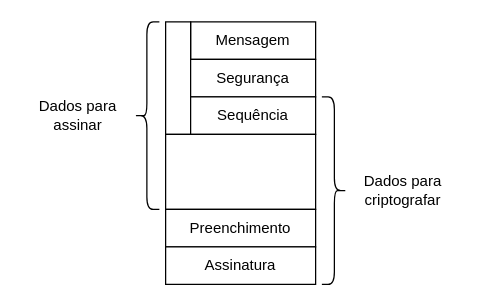
Some shapes in this 480 by 306 pixel diagram are drawn without their labels. Each missing label, with the centre of its shape:
"Cabeçalho" goes at point (177, 77).
"Corpo" goes at point (240, 171).
